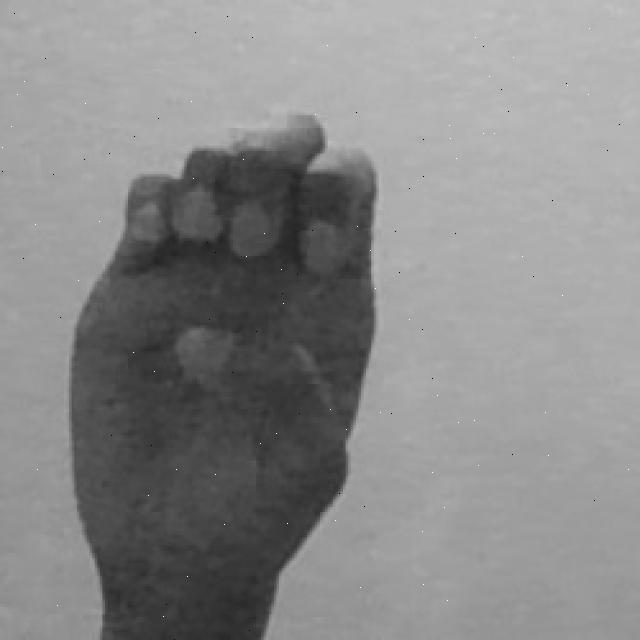E: (68, 107, 378, 640)
